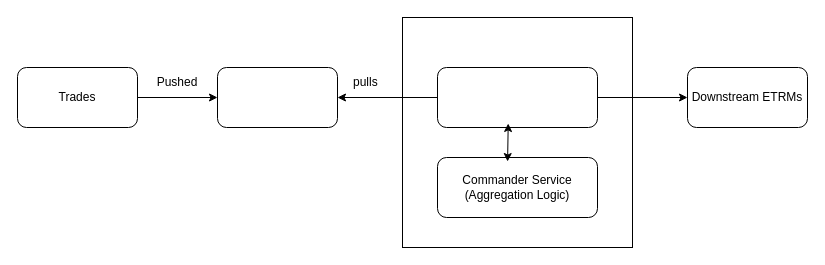
The diagram is 825 pixels wide and 265 high, and some of its shapes have lost their labels. Here are the shapes that lost their labels. From the top down, the centre of each, then its label:
At (x=277, y=97): "ActiveMQ Queue".
At (x=517, y=97): "Tempus Gateway".
